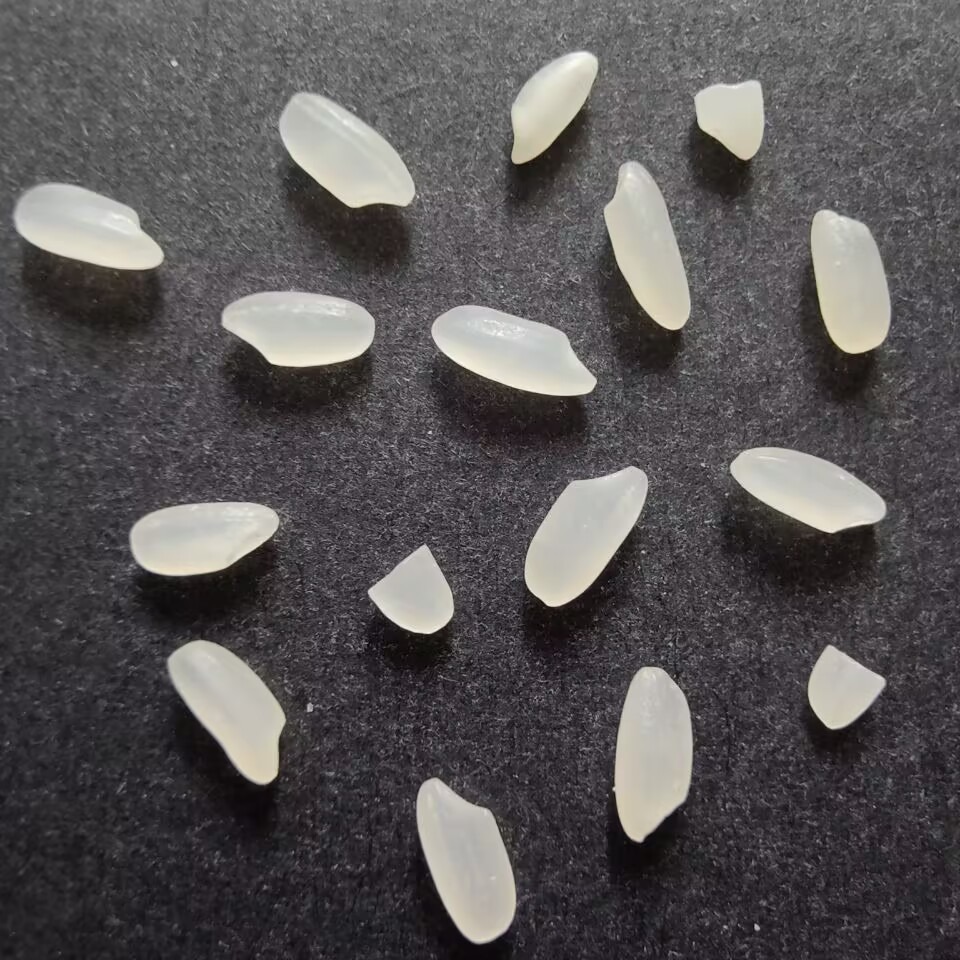broken: (358, 542, 460, 641), (799, 641, 892, 733), (691, 76, 770, 166)
rice: (164, 637, 291, 791), (519, 461, 646, 611), (415, 773, 523, 948), (277, 87, 416, 213), (600, 154, 695, 335), (609, 657, 695, 850), (428, 301, 599, 398), (727, 441, 891, 537), (7, 182, 171, 273), (213, 287, 382, 371), (805, 204, 893, 361), (128, 494, 284, 579), (503, 45, 603, 168)
